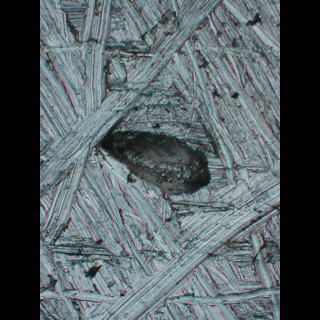d: (40, 2, 227, 209), (96, 123, 215, 204)
